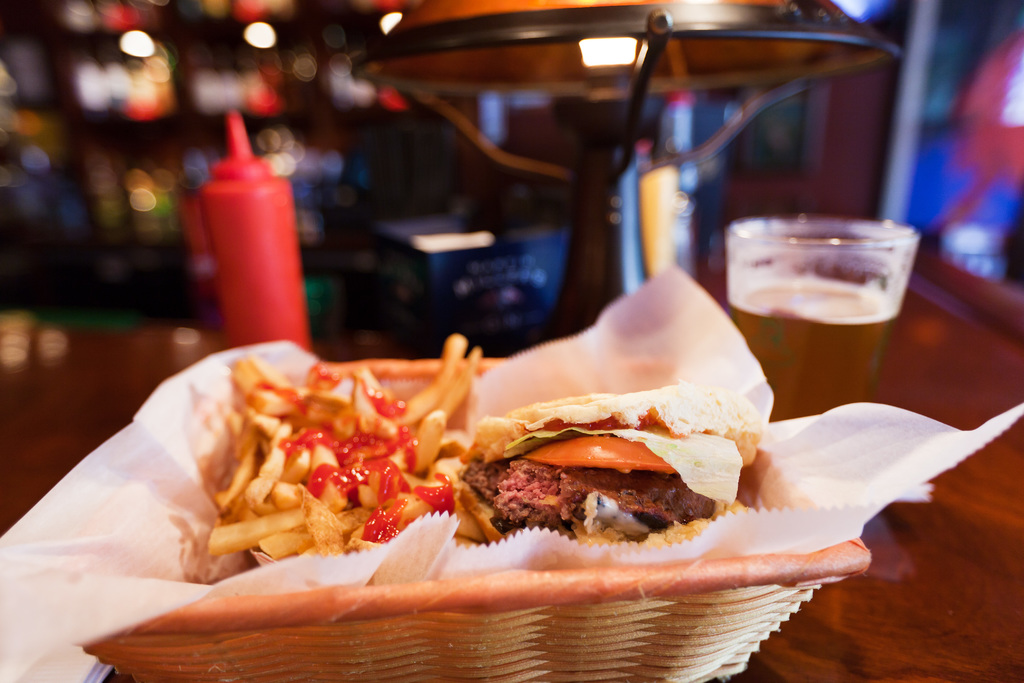French fries: (176, 360, 676, 577)
